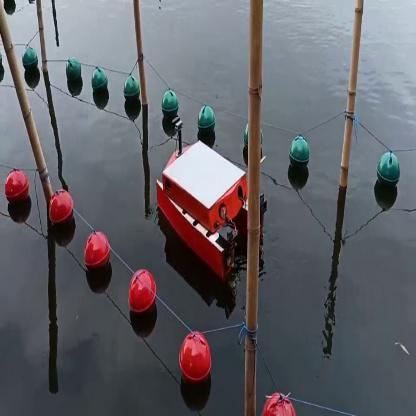green_buoy: (160, 85, 180, 125), (379, 151, 398, 190), (196, 102, 214, 138), (92, 63, 108, 101), (292, 136, 308, 174), (124, 75, 140, 108), (22, 42, 38, 73), (67, 57, 81, 80)
red_buoy: (182, 326, 212, 388), (127, 269, 156, 321), (50, 184, 75, 226), (84, 232, 108, 272), (5, 172, 28, 206), (266, 389, 294, 415)
